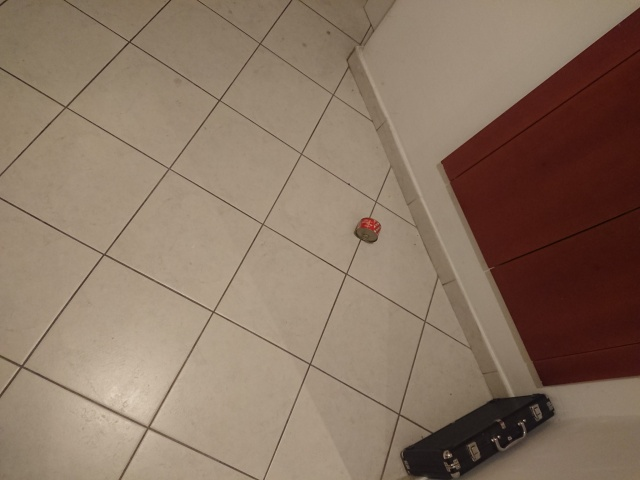Podravka Luncheon Meat 150g: (352, 215, 383, 244)
